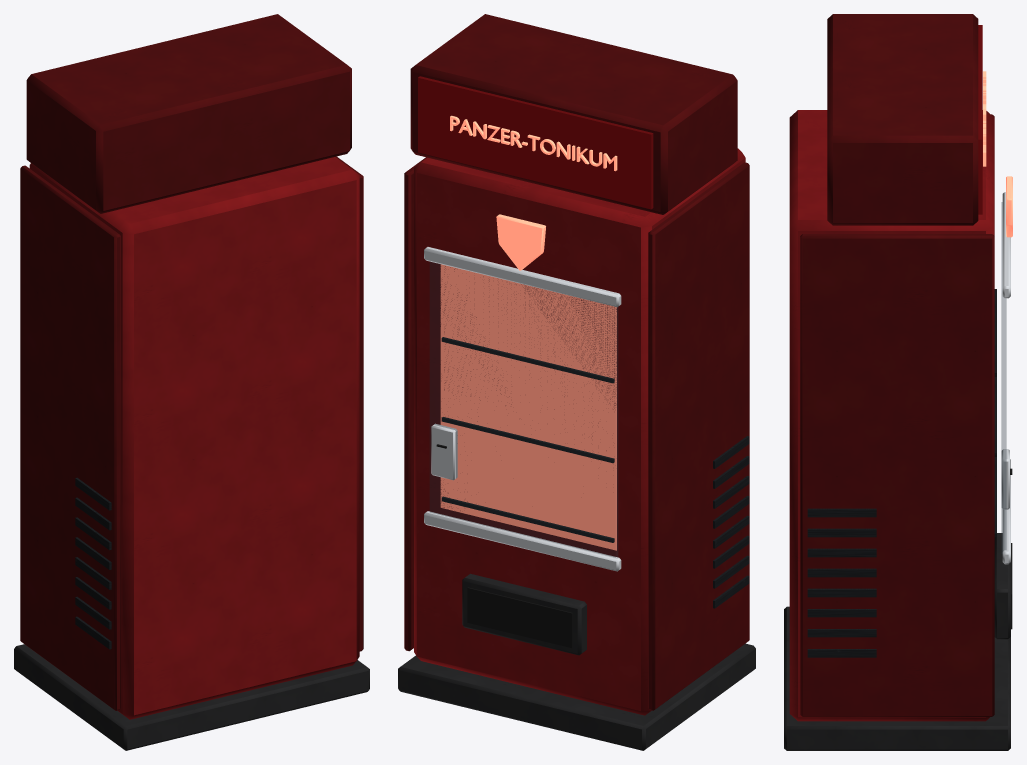
Rendered from perk_jugg.gltf.
3 renders of one model, left to right at view 1: azimuth 30°, elevation 25°; view 2: azimuth 150°, elevation 25°; view 3: azimuth 270°, elevation 25°, orthographic.
Visible parts, largest first — view 1: Perk_jugg; view 2: Perk_jugg, PerkName_jugg; view 3: Perk_jugg.
Part boxes in pixels (x1,y1,x2,y2): Perk_jugg: (14, 14, 369, 750); Perk_jugg: (398, 14, 755, 750); PerkName_jugg: (450, 115, 617, 171); Perk_jugg: (784, 14, 1012, 750).
Bounding box in the file's own units: 1.08 × 2.46 × 0.8275.
11 materials, 4 textured.
